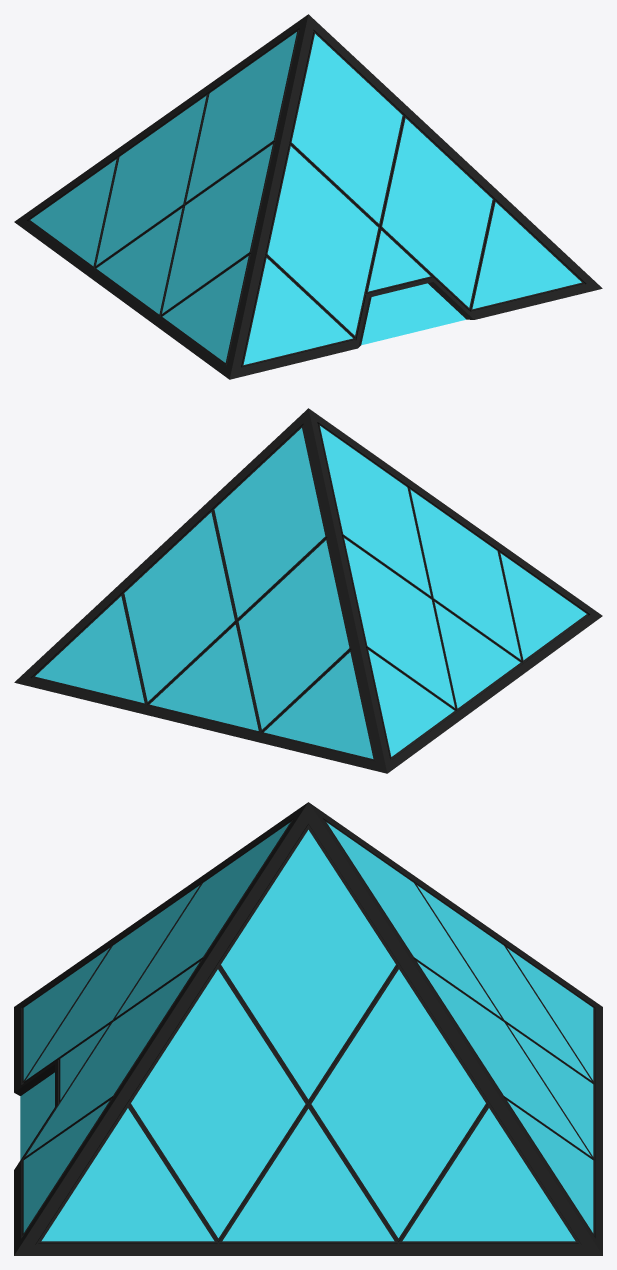
The model's file is szt-model.glb.
3 views of the same model, one above another, from view 1: azimuth 30°, elevation 25°; view 2: azimuth 150°, elevation 25°; view 3: azimuth 270°, elevation 25° (orthographic). The views are drawn at different scales.
Visible parts, largest first — view 1: Pyramid001; view 2: Pyramid001; view 3: Pyramid001.
Part boxes in pixels (box(x1,y1,x2,y2)): Pyramid001: box(14, 14, 602, 379); Pyramid001: box(14, 408, 602, 773); Pyramid001: box(14, 802, 602, 1255).
Size of the model in its own units: 0.35 by 0.216 by 0.35.
